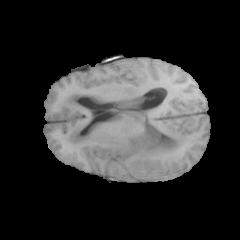glioma: (60, 90, 186, 161)
